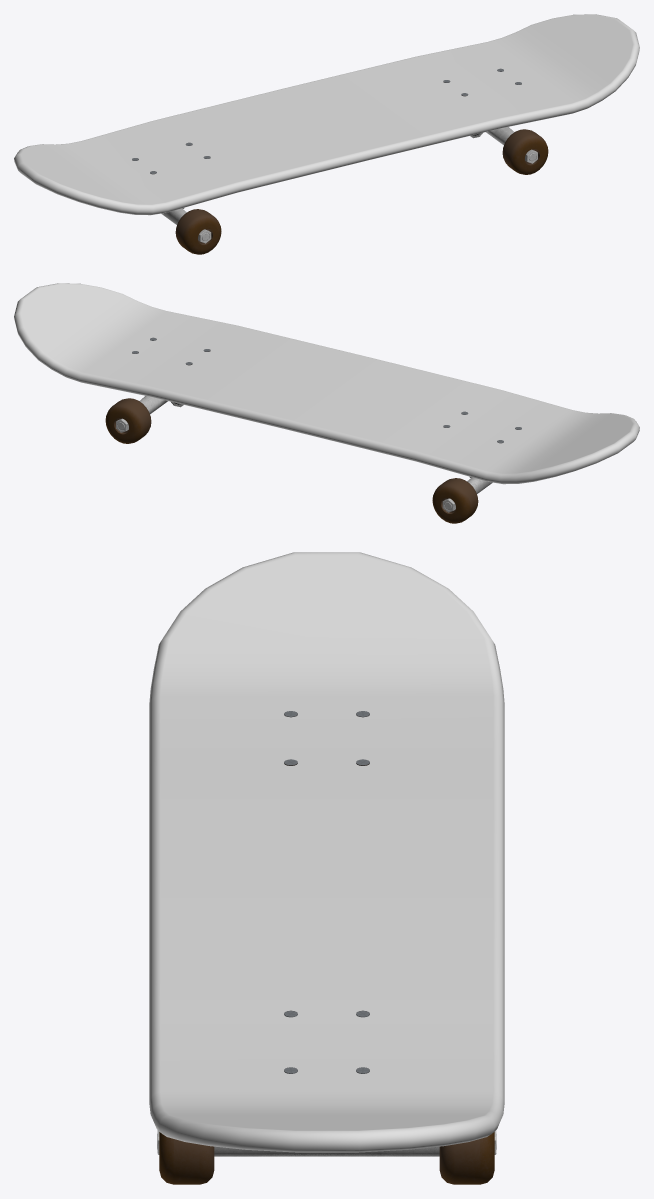
File: skateboard.gltf
The picture shows the model from 3 angles, top to bottom: view 1: azimuth 30°, elevation 25°; view 2: azimuth 150°, elevation 25°; view 3: azimuth 270°, elevation 25°; orthographic projection. The views are drawn at different scales.
Visible parts, largest first — view 1: gripTape, wheels, trucks; view 2: gripTape, wheels, trucks; view 3: gripTape, wheels, trucks.
Part boxes in pixels (left/top/right/bottom): gripTape: left=14, top=14, right=639, bottom=215; wheels: left=175, top=129, right=548, bottom=254; trucks: left=161, top=127, right=537, bottom=243; gripTape: left=14, top=283, right=639, bottom=484; wheels: left=105, top=398, right=478, bottom=523; trucks: left=116, top=396, right=492, bottom=512; gripTape: left=149, top=552, right=504, bottom=1152; wheels: left=159, top=1132, right=494, bottom=1184; trucks: left=157, top=1130, right=496, bottom=1156.
Bounding box in the file's own units: 122 × 17.3 × 31.1.
1 material, 1 textured.
